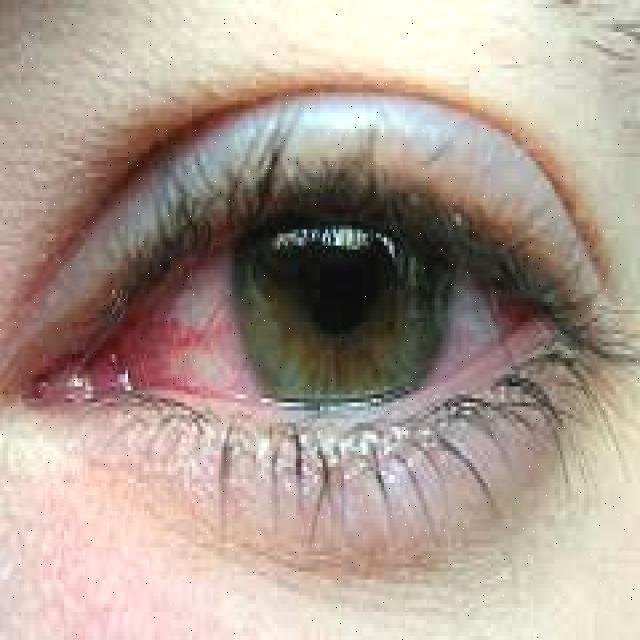Conjunctivitis: (40, 222, 570, 430)
